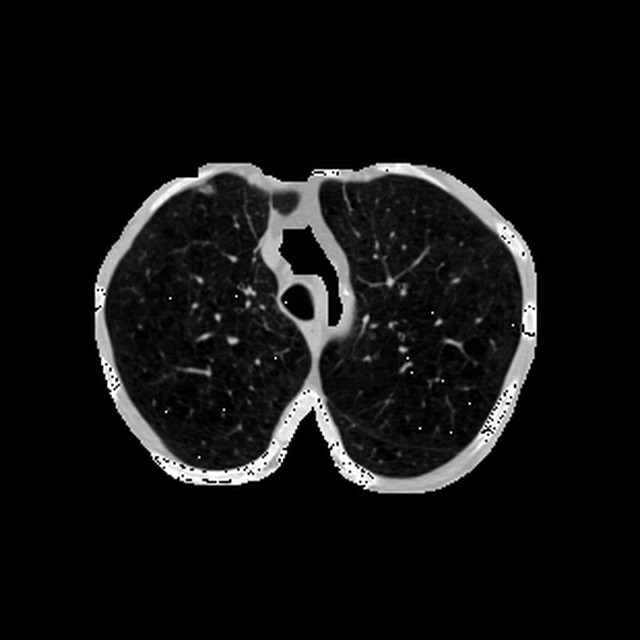PN: (198, 184, 211, 196)
